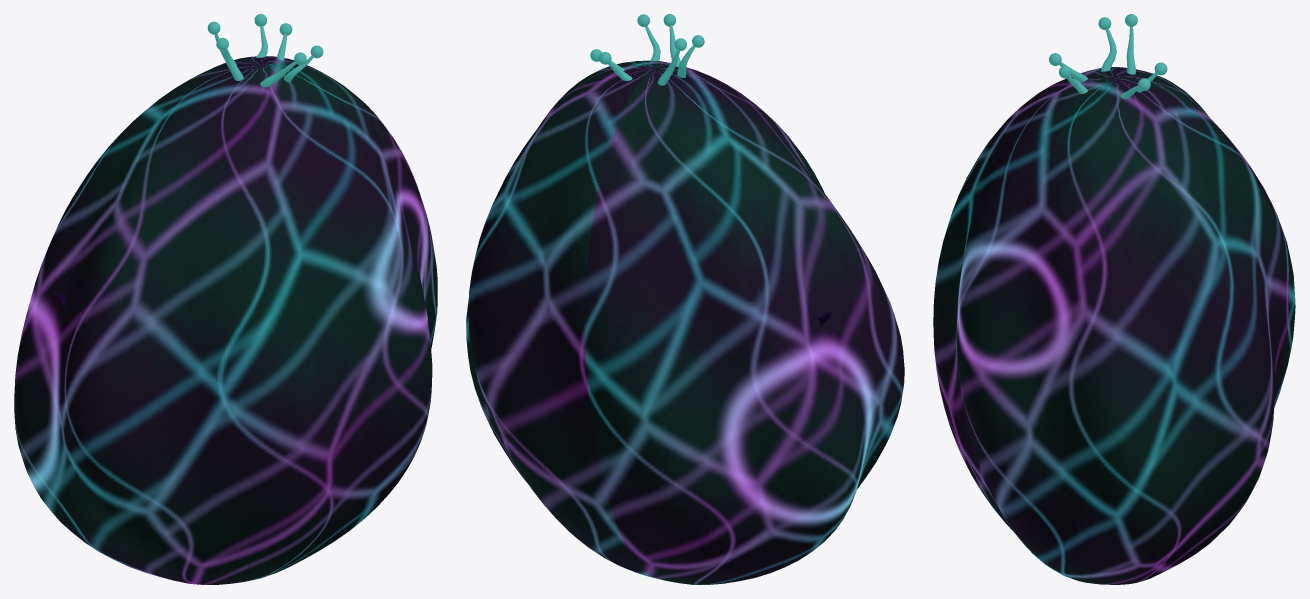
File: alien_egg_c.glb
3 views of the same model, side by side, from view 1: azimuth 30°, elevation 25°; view 2: azimuth 150°, elevation 25°; view 3: azimuth 270°, elevation 25° (orthographic).
Parts seen in each view (by area): view 1: SHARD_07, SHARD_12, SHARD_15, SHARD_20, SHARD_04, SHARD_02, SHARD_10, SHARD_17, SHARD_23, SHARD_09, SHARD_25, SHARD_01 (+5 smaller); view 2: SHARD_06, SHARD_14, SHARD_11, SHARD_09, SHARD_19, SHARD_01, SHARD_22, SHARD_03, SHARD_17, SHARD_04, SHARD_16, SHARD_24 (+5 smaller); view 3: SHARD_08, SHARD_13, SHARD_05, SHARD_18, SHARD_21, SHARD_16, SHARD_10, SHARD_00, SHARD_03, SHARD_02, SHARD_11, SHARD_15 (+7 smaller).
Part boxes in pixels (x1,y1,x2,y2): SHARD_07: (182,161,340,381); SHARD_12: (71,252,228,479); SHARD_15: (219,295,388,504); SHARD_20: (94,397,285,565); SHARD_04: (85,106,237,310); SHARD_02: (230,85,384,249); SHARD_10: (329,189,429,410); SHARD_17: (14,327,108,517); SHARD_23: (236,424,399,580); SHARD_09: (15,170,115,380); SHARD_25: (69,502,249,584); SHARD_01: (90,59,250,171); SHARD_06: (576,157,743,364); SHARD_14: (638,304,835,503); SHARD_11: (494,235,646,435); SHARD_09: (736,199,867,426); SHARD_19: (544,382,720,561); SHARD_01: (612,71,764,233); SHARD_22: (696,440,854,574); SHARD_03: (499,100,626,255); SHARD_17: (827,303,904,499); SHARD_04: (716,82,866,282); SHARD_16: (468,273,554,468); SHARD_24: (514,458,668,571); SHARD_08: (1115,188,1253,419); SHARD_13: (1030,293,1178,502); SHARD_05: (1006,148,1135,346); SHARD_18: (964,358,1087,548); SHARD_21: (1075,433,1216,573); SHARD_16: (1173,309,1274,502); SHARD_10: (956,213,1037,411); SHARD_00: (1061,70,1176,201); SHARD_03: (1147,101,1259,274); SHARD_02: (972,74,1084,219); SHARD_11: (1244,200,1295,385); SHARD_15: (933,247,967,434).
Size of the model in its own units: 2.12 by 2.79 by 1.66.
Materials: 3 (2 with a texture image).
